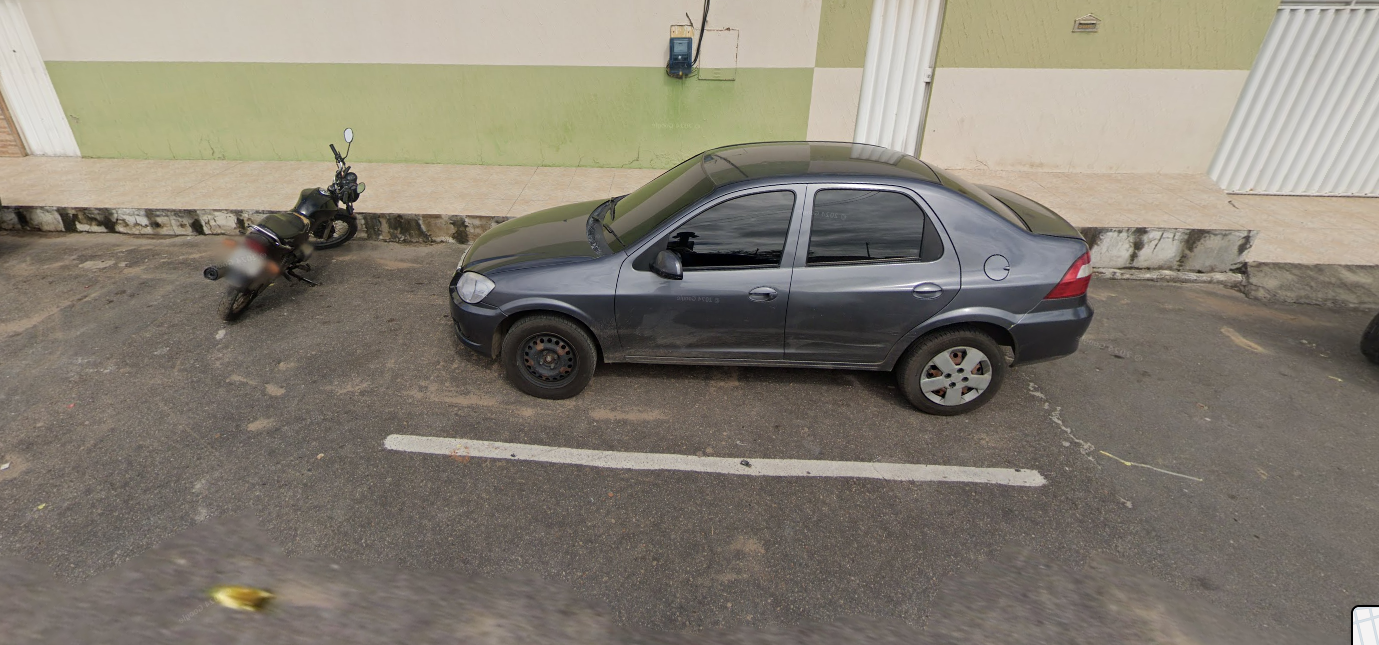car: (443, 136, 1097, 436)
